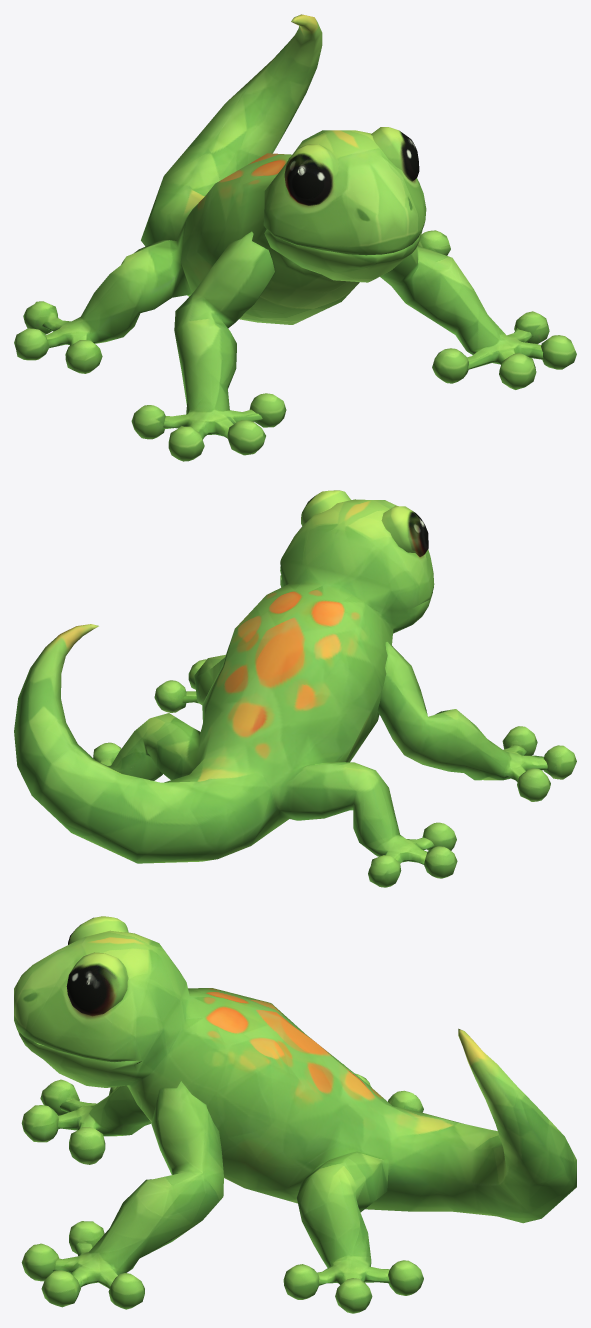
The model's file is gecko.glb.
3 views of the same model, one above another, from view 1: azimuth 30°, elevation 25°; view 2: azimuth 150°, elevation 25°; view 3: azimuth 270°, elevation 25° (orthographic). The views are drawn at different scales.
Size of the model in its own units: 0.9297 by 0.5391 by 1.
1 material, 1 textured.
